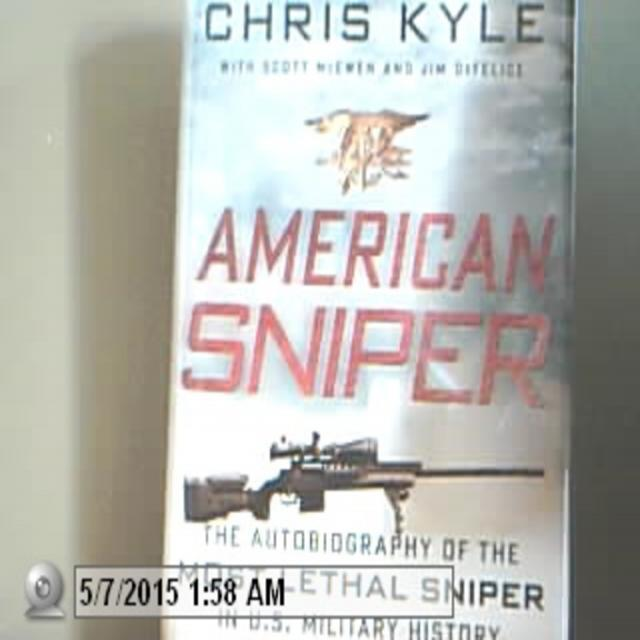weapon: (162, 416, 492, 550)
